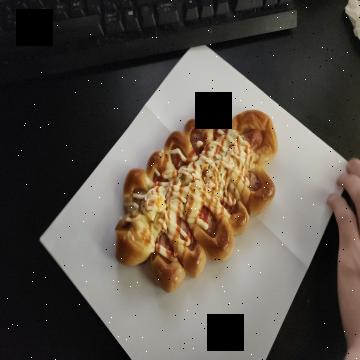pizza_bread: (113, 107, 279, 294)
